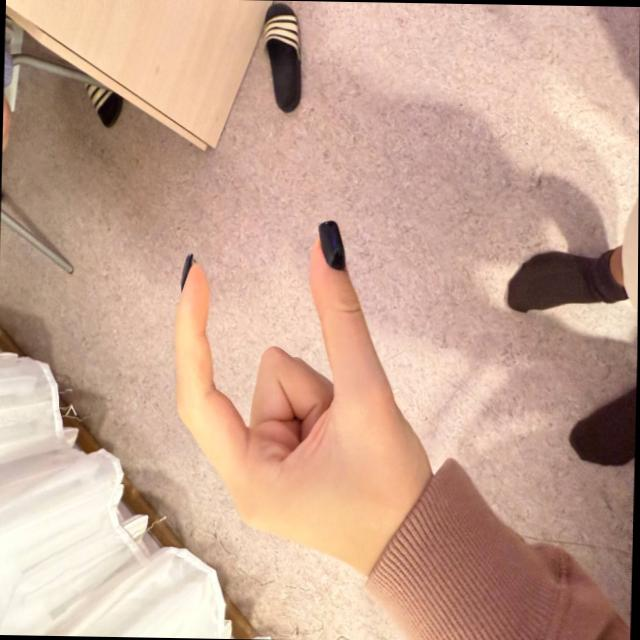uh: (123, 206, 423, 550)
